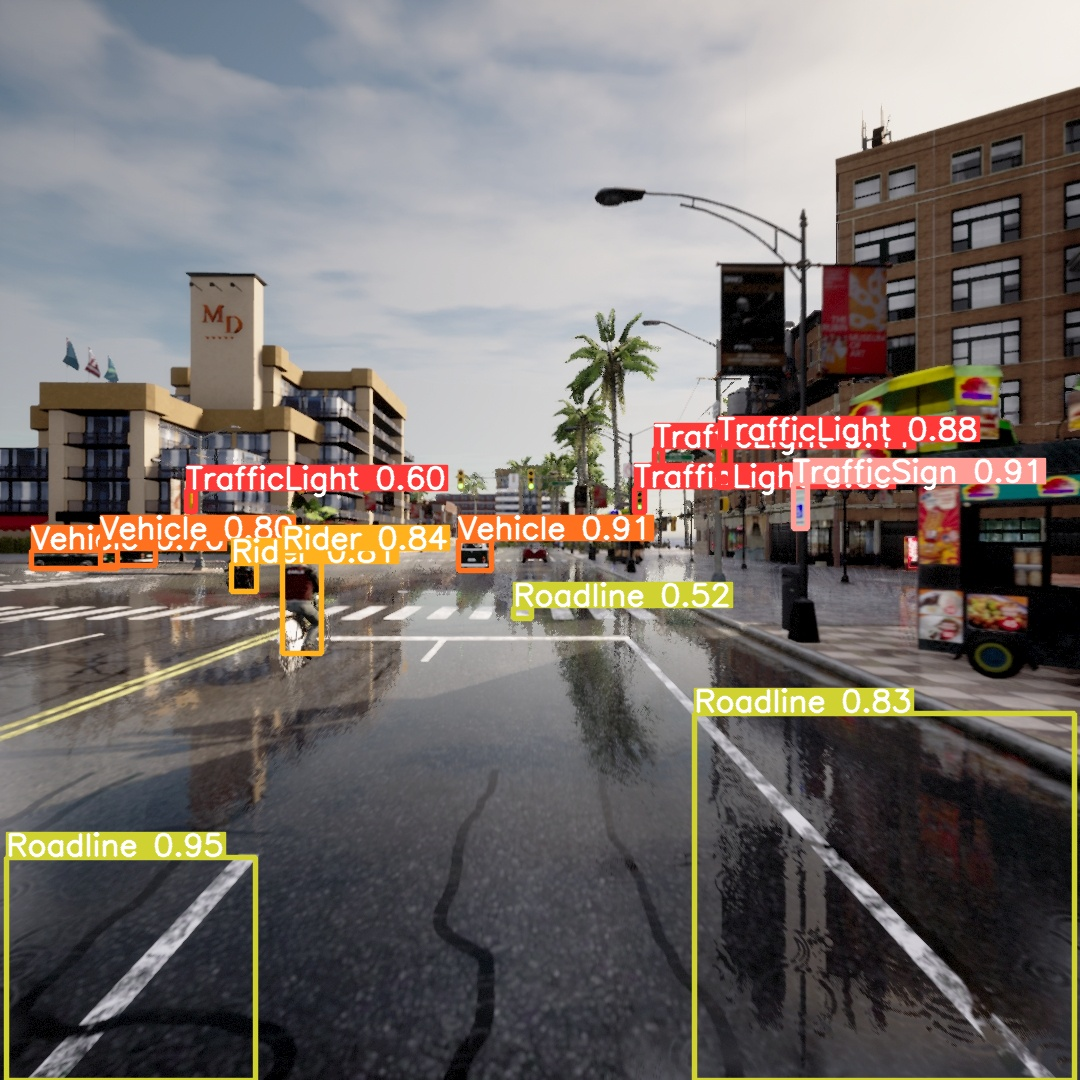Rider: (281, 551, 321, 643), (235, 561, 257, 591)
Roadline: (643, 655, 1055, 1080), (31, 857, 251, 1080), (333, 637, 627, 651)
TrafficLight: (717, 441, 729, 487), (635, 489, 645, 513), (187, 491, 197, 513)
TrafficSign: (793, 485, 805, 527)
Vehicle: (31, 551, 121, 569), (99, 539, 155, 565), (459, 545, 491, 571)
